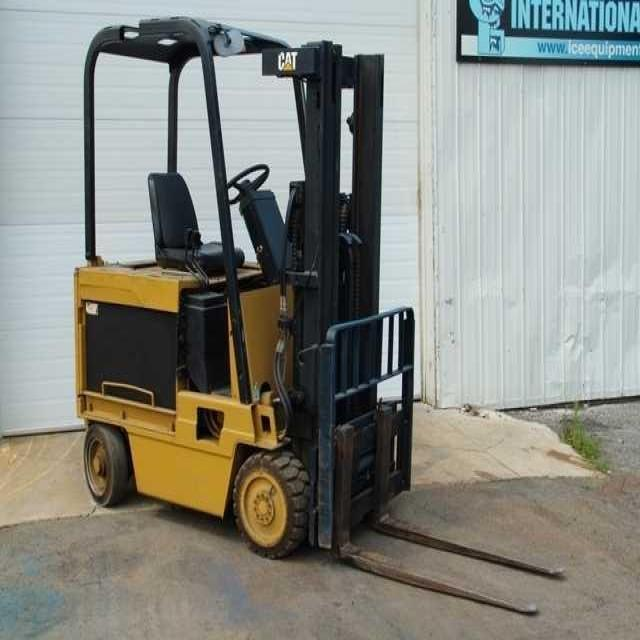forklift: (73, 15, 413, 561)
